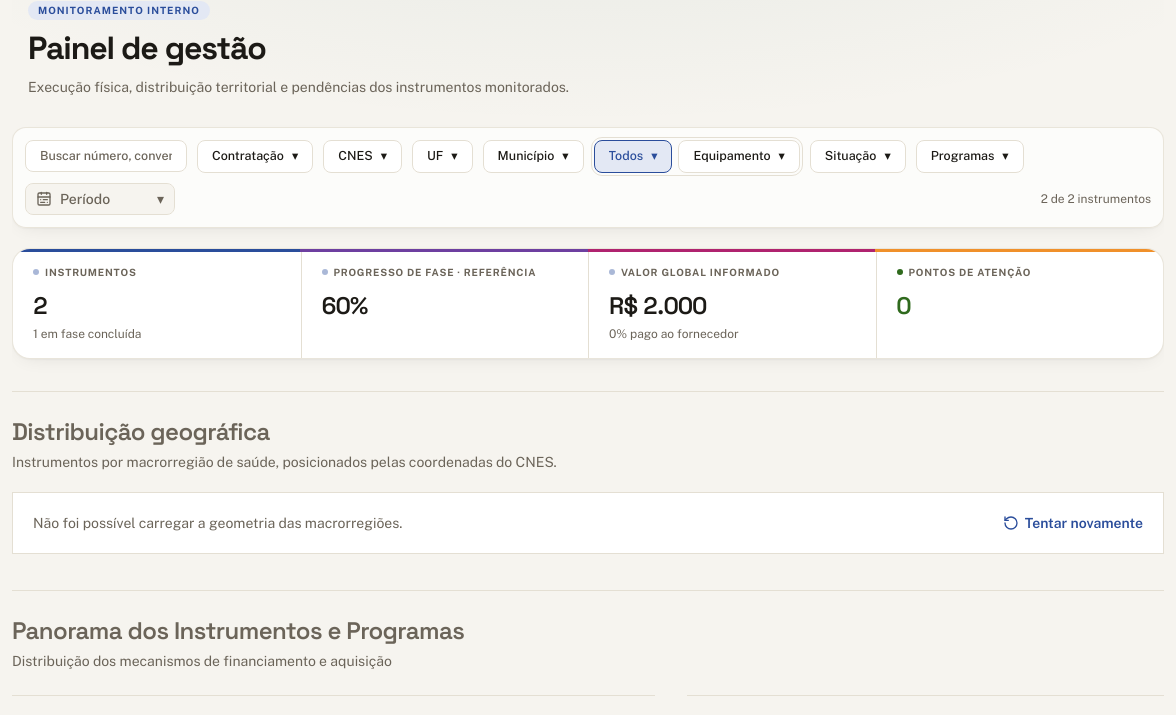
it: Painel de gestão com composição e HTTP reais simulados › permite recuperar a geometria sem perder os demais indicadores
Expected: the text "Não foi possível carregar a geometria das macrorregiões." is shown, [33,513,402,533]
Expected: the text "2" is shown, [33,290,47,320]
Click the button "Tentar novamente" at (1073, 523), box [1003,513,1143,533]
(page scrolled)
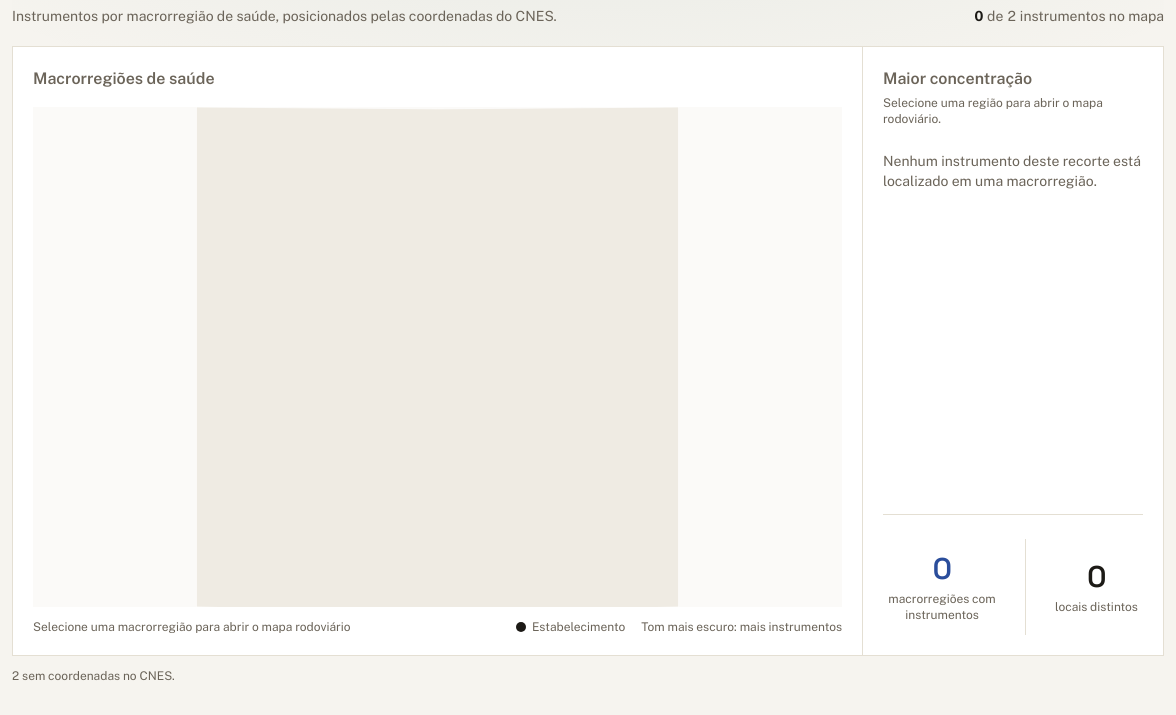
Expected: the icon named "Mapa de 1 macrorregiões de saúde e 0 estabelecimentos" is shown, [33,107,842,607]
Expected: the text "Não foi possível carregar a geometria das macrorregiões." is gone
